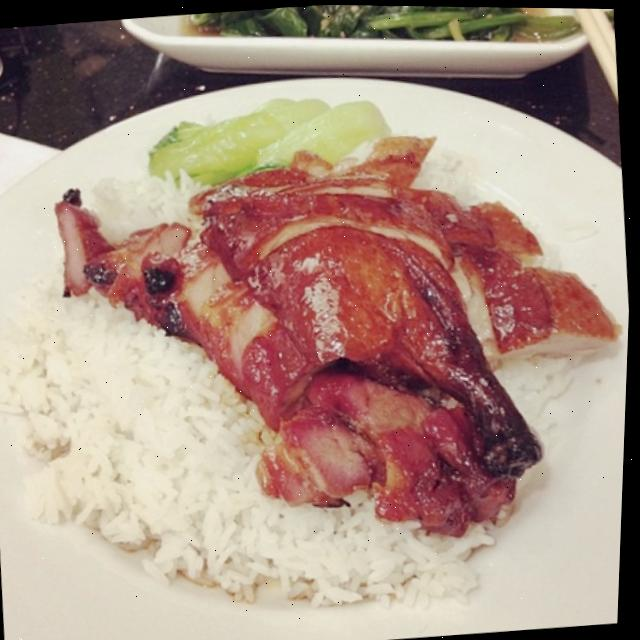米饭主食: (0, 36, 639, 640)
